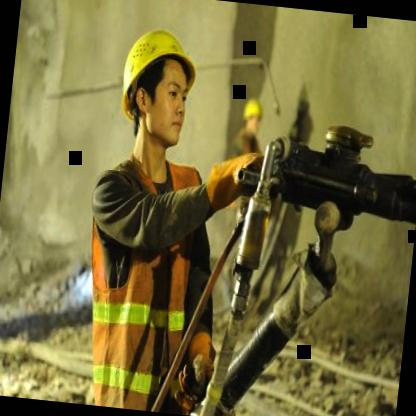helmet: (109, 13, 210, 167), (238, 92, 268, 141)
